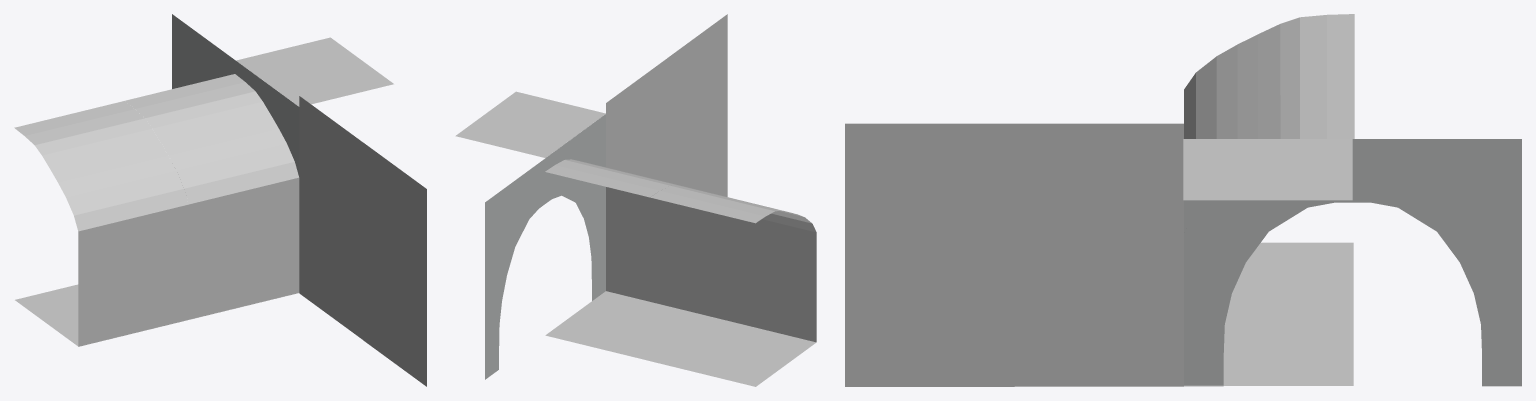
File: Modularpieces.fbx
The picture shows the model from 3 angles, left to right: view 1: azimuth 30°, elevation 25°; view 2: azimuth 150°, elevation 25°; view 3: azimuth 270°, elevation 25°; orthographic projection. The views are drawn at different scales.
Parts seen in each view (by area): view 1: RoofB, RoofA, WallA, WallB, RoomWallA, RoomWallB, Roof, UpperWallA, UpperWallB, Gate.001, FloorA, Gate; view 2: WallB, WallA, FloorA, FloorB, Gate.001, Gate, Roof, UpperWallA, UpperWallB, RoomWallA, RoofB, RoofA (+1 smaller); view 3: RoomWallA, RoomWallB, Gate, UpperWallA, Gate.001, UpperWallB, RoofB, Roof, FloorB, FloorA, RoofA.
Boxes of the visible parts, x1,y1,x2,y2 form: RoofB: (14,101,188,231); RoofA: (125,74,298,204); WallA: (188,177,299,319); WallB: (78,204,188,346); RoomWallA: (363,225,426,386); RoomWallB: (299,178,362,339); Roof: (236,37,393,106); UpperWallA: (363,142,426,271); UpperWallB: (299,96,362,224); Gate.001: (172,14,298,167); FloorA: (15,284,78,346); Gate: (172,14,299,176); WallB: (711,212,816,342); WallA: (606,187,711,316); FloorA: (651,317,816,386); FloorB: (545,291,710,361); Gate.001: (485,114,605,300); Gate: (485,184,605,379); Roof: (455,91,605,157); UpperWallA: (667,14,727,136); UpperWallB: (606,59,666,170); RoomWallA: (667,93,727,196); RoofB: (650,185,816,232); RoofA: (545,159,682,197); RoomWallA: (845,233,1014,386); RoomWallB: (1014,233,1183,386); Gate: (1184,139,1521,386); UpperWallA: (845,123,1014,233); Gate.001: (1184,139,1521,386); UpperWallB: (1014,123,1183,232); RoofB: (1184,14,1354,138); Roof: (1183,139,1352,200); FloorB: (1184,314,1353,385); FloorA: (1227,242,1353,314); RoofA: (1203,85,1354,138).
Bounding box in the file's own units: 571 × 342 × 798.
